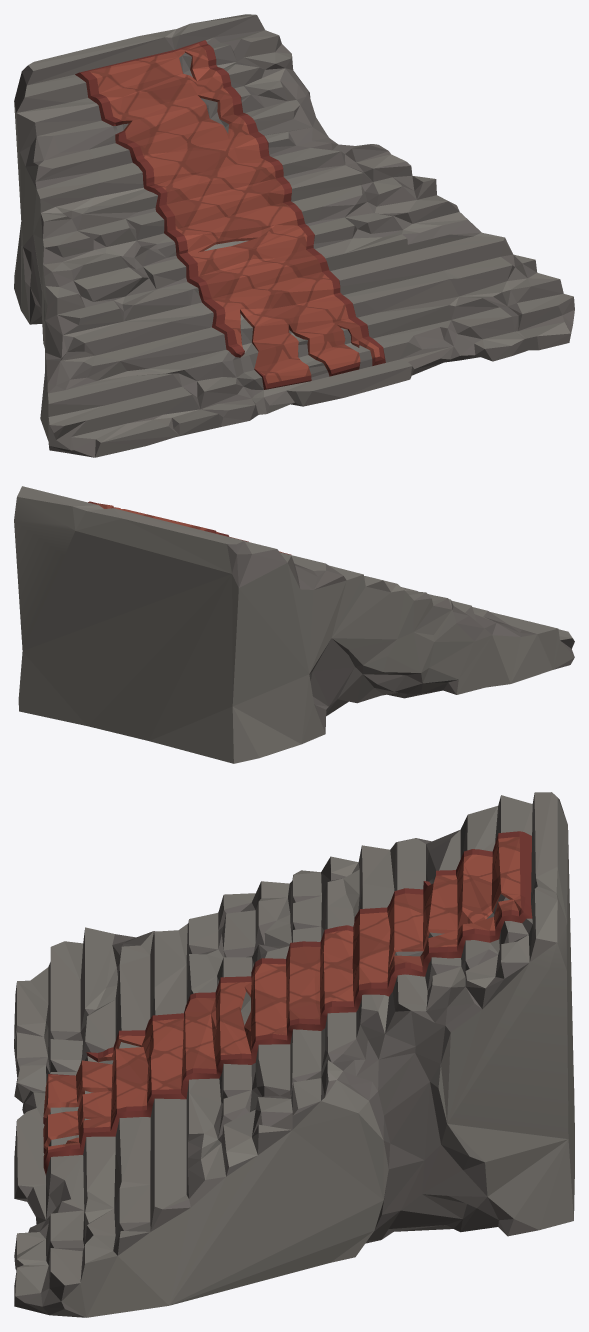
Rendered from SM_Env_Stairs_Large_02.FBX.
3 views of the same model, one above another, from view 1: azimuth 30°, elevation 25°; view 2: azimuth 150°, elevation 25°; view 3: azimuth 270°, elevation 25° (orthographic). The views are drawn at different scales.
Parts seen in each view (by area): view 1: SM_Env_Stairs_Large_02; view 2: SM_Env_Stairs_Large_02; view 3: SM_Env_Stairs_Large_02.
Part boxes in pixels (box(x1,y1,x2,y2)): SM_Env_Stairs_Large_02: box(14, 14, 574, 457); SM_Env_Stairs_Large_02: box(14, 486, 574, 763); SM_Env_Stairs_Large_02: box(14, 792, 574, 1317).
Size of what is drawn, in the model's own units: 1279 by 877 by 502.
